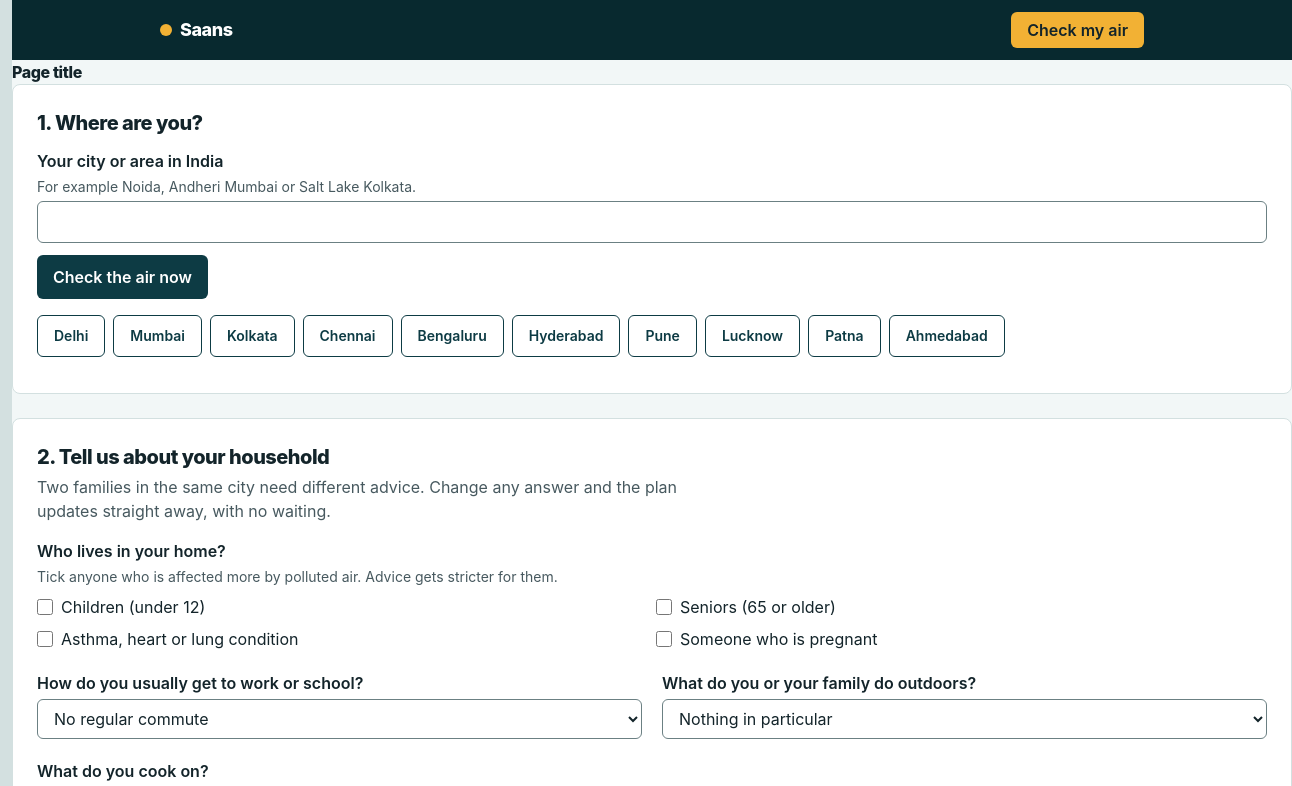
it: axe audit: states that appear after the user acts › an error from the air service
Click the button "Delhi": [71, 336] box [37, 315, 105, 357]
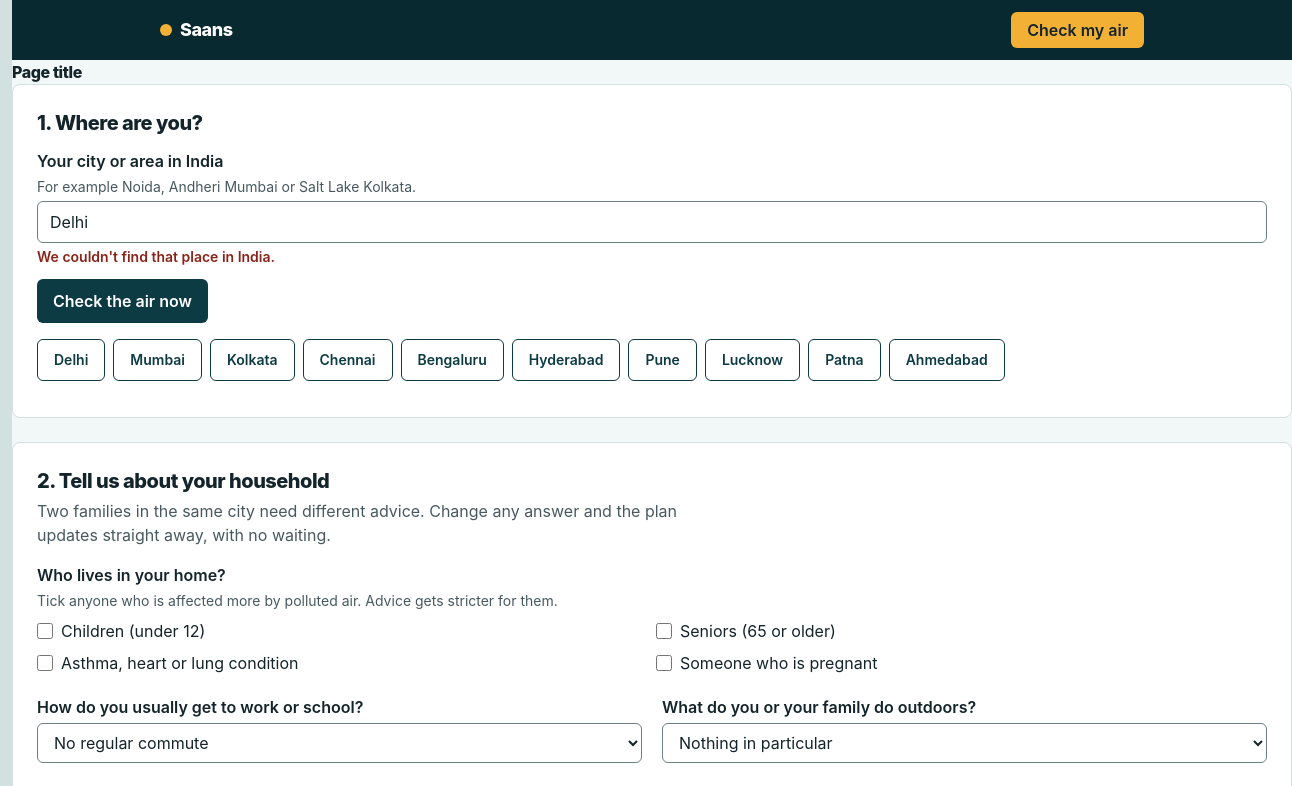
Expected: the text "We couldn't find that place in India." is shown, [37, 248, 275, 265]
